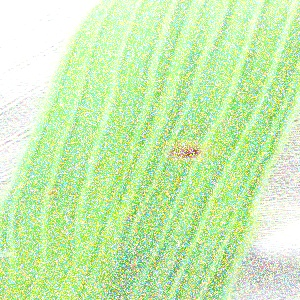Bacterial_Leaf_Blight: (160, 138, 209, 164), (13, 285, 29, 294), (44, 189, 55, 199)
